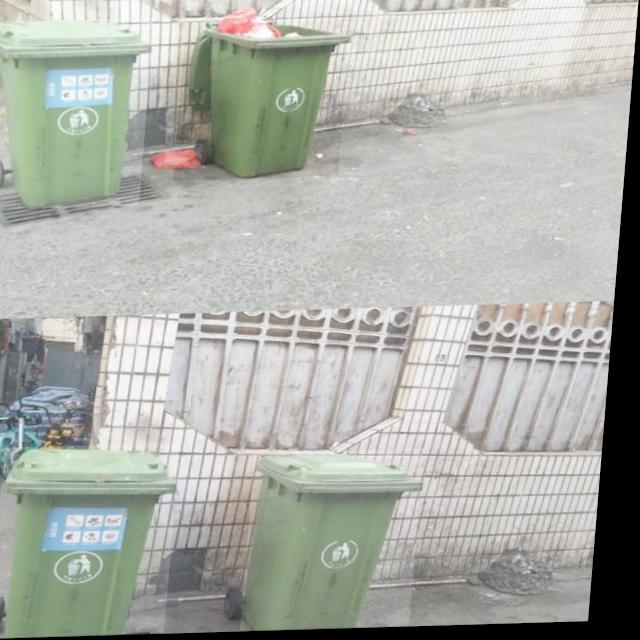garbage: (152, 145, 206, 170)
garbage_bin: (0, 444, 187, 638), (251, 451, 431, 632), (0, 18, 155, 210)
overflow: (176, 8, 352, 182)
